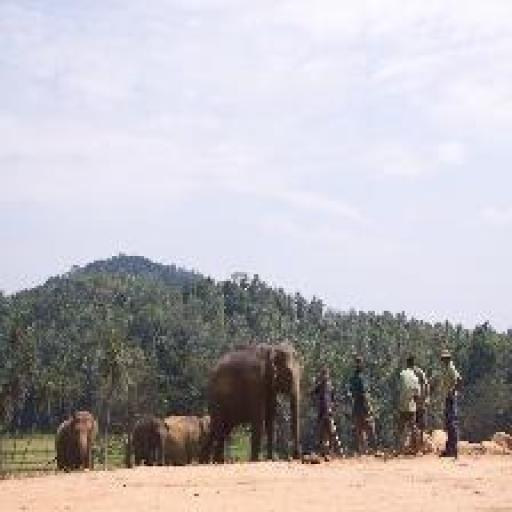Elephant: (196, 341, 302, 464), (126, 414, 212, 466), (53, 409, 98, 471)
